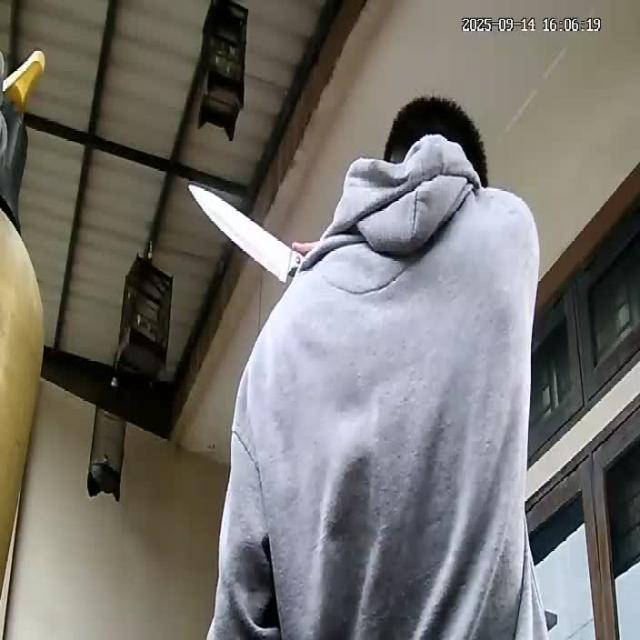senjata_tajam: (187, 180, 295, 284)
